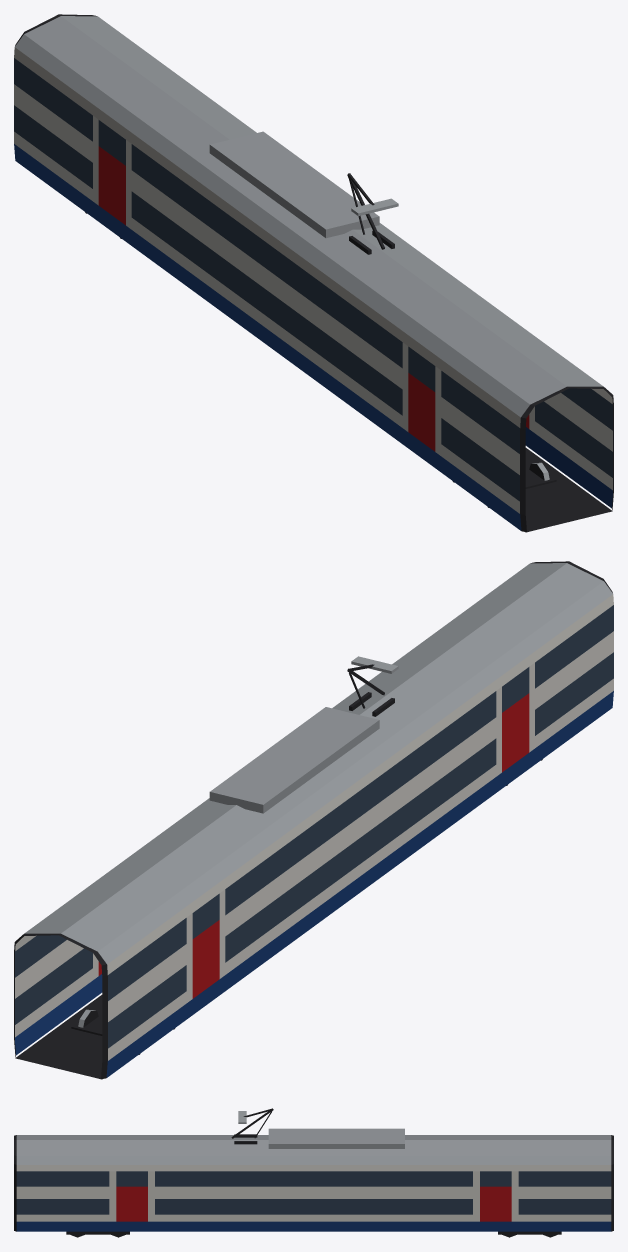
Rendered from sbahn_mid.glb.
3 views of the same model, one above another, from view 1: azimuth 30°, elevation 25°; view 2: azimuth 150°, elevation 25°; view 3: azimuth 270°, elevation 25° (orthographic). The views are drawn at different scales.
Visible parts, largest first — view 1: sbahn_mid; view 2: sbahn_mid; view 3: sbahn_mid.
Part boxes in pixels (box(x1,y1,x2,y2)): sbahn_mid: box(14, 14, 613, 532); sbahn_mid: box(14, 561, 613, 1079); sbahn_mid: box(14, 1108, 613, 1237).
Bounding box in the file's own units: 2.8 × 5.89 × 26.4.
